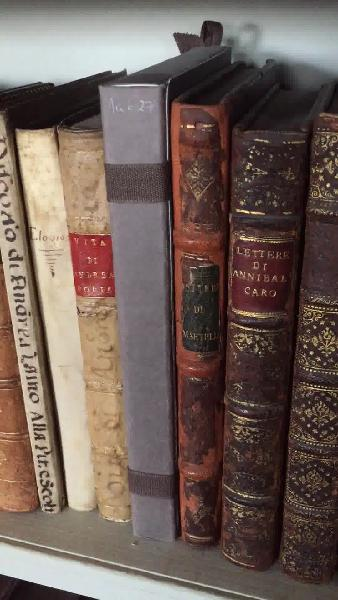Aa6-25: (15, 122, 98, 518)
Aa6-26: (58, 126, 142, 532)
Aa6-27: (94, 71, 184, 546)
Aa6-28: (162, 97, 232, 549)
Aa6-29: (225, 121, 296, 570)
Aa6-30: (271, 112, 338, 600)
